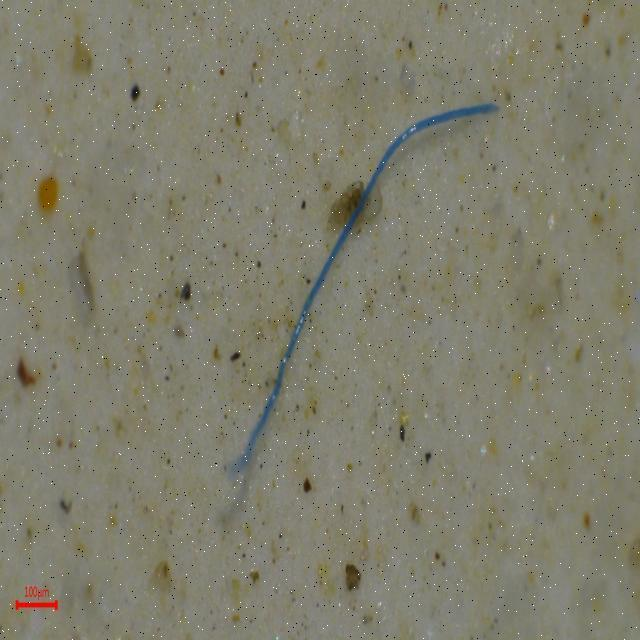Fibre: (225, 98, 500, 486)
